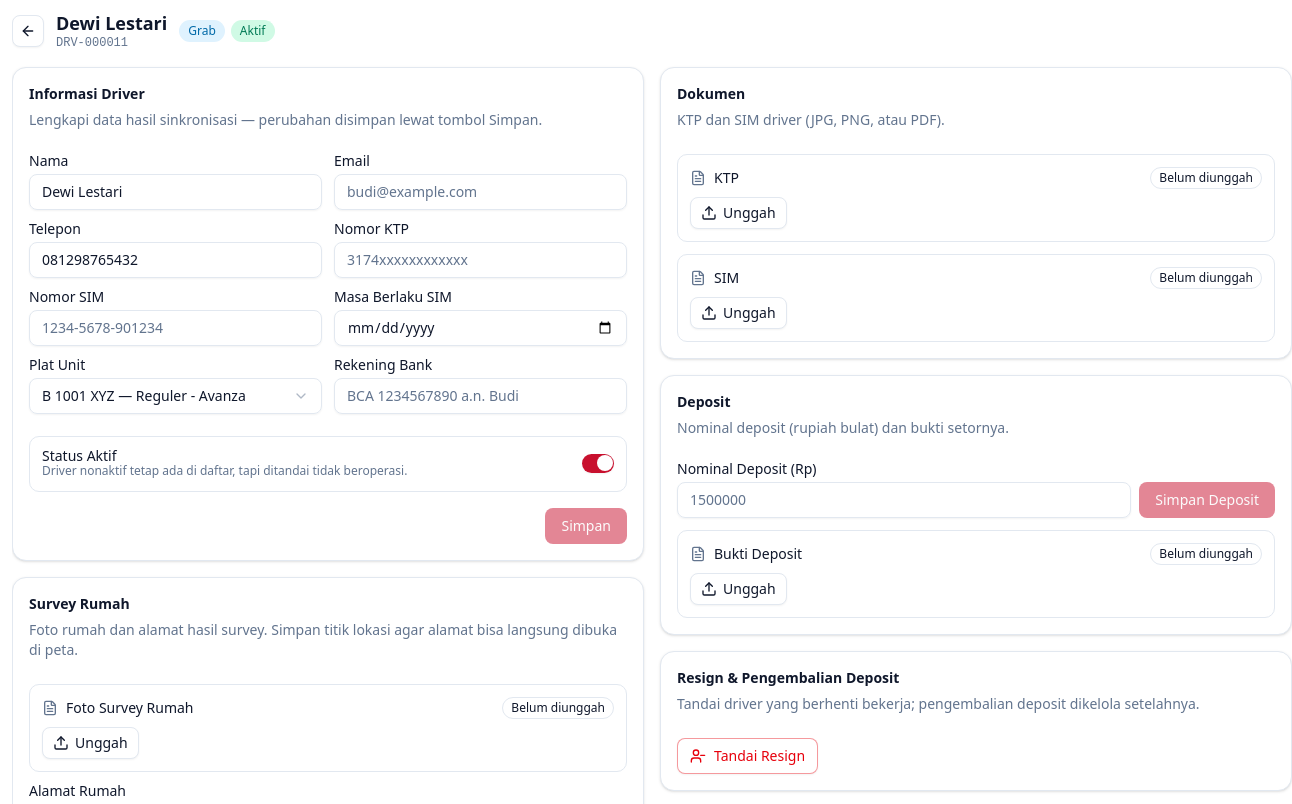
Test: Halaman edit driver — informasi › surfaces the CONFLICT error inline when the name is already taken
Replace the text in the field labelled "Nama" with "Agus Salim": (176, 192) [29, 174, 322, 210]
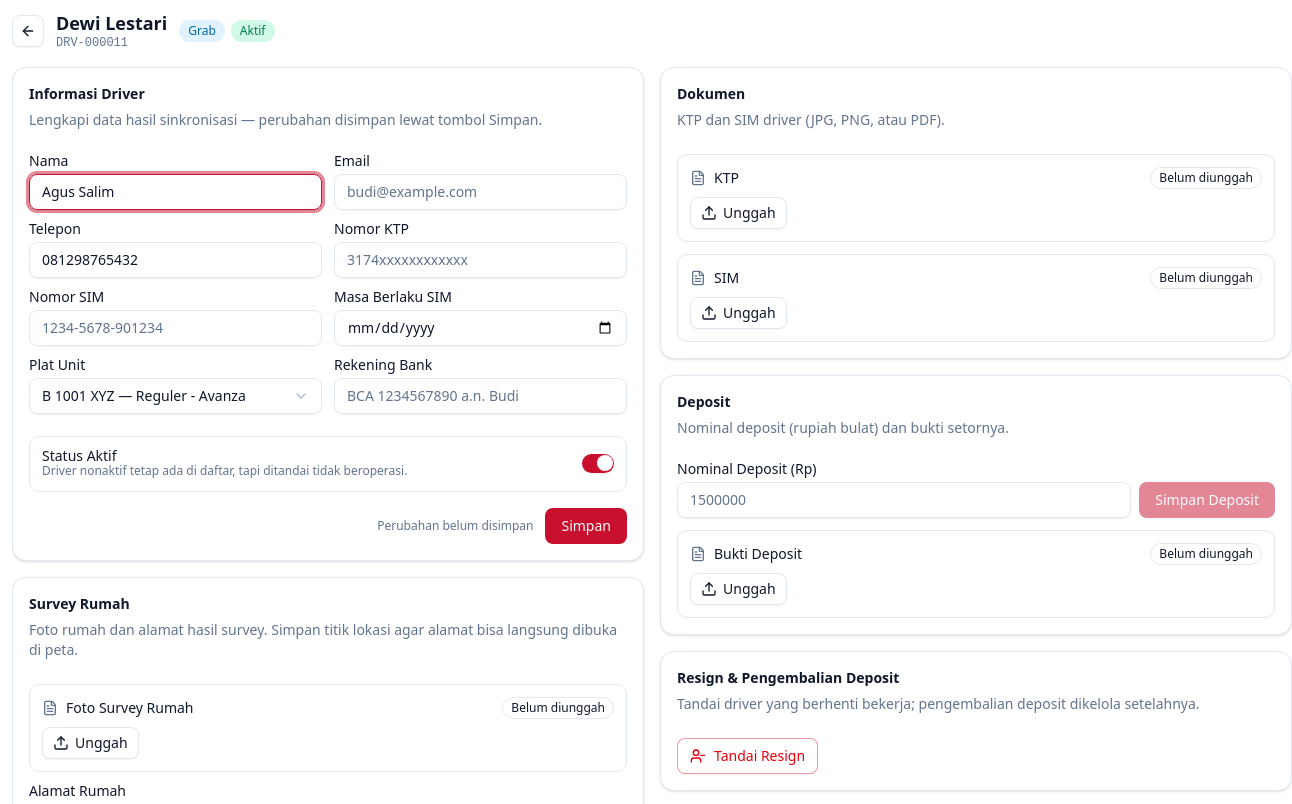
Click the button "Simpan": (586, 526) [546, 508, 627, 544]
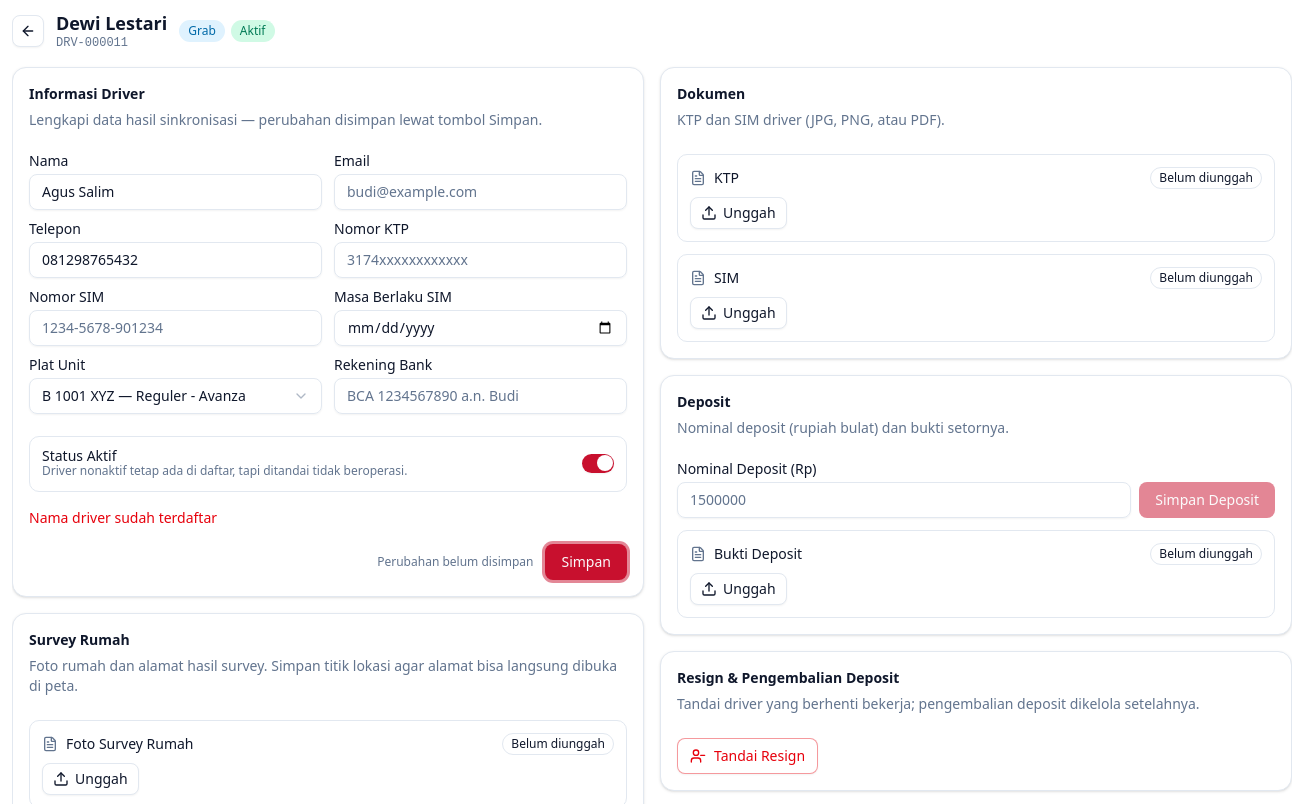
Expected: the message reads "Nama driver sudah terdaftar", [29, 508, 217, 526]
